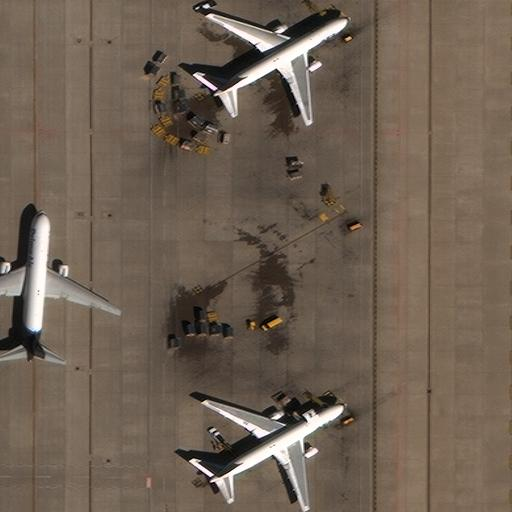Large Civil Transport: (0, 209, 121, 363), (210, 11, 351, 122), (206, 399, 346, 509)
